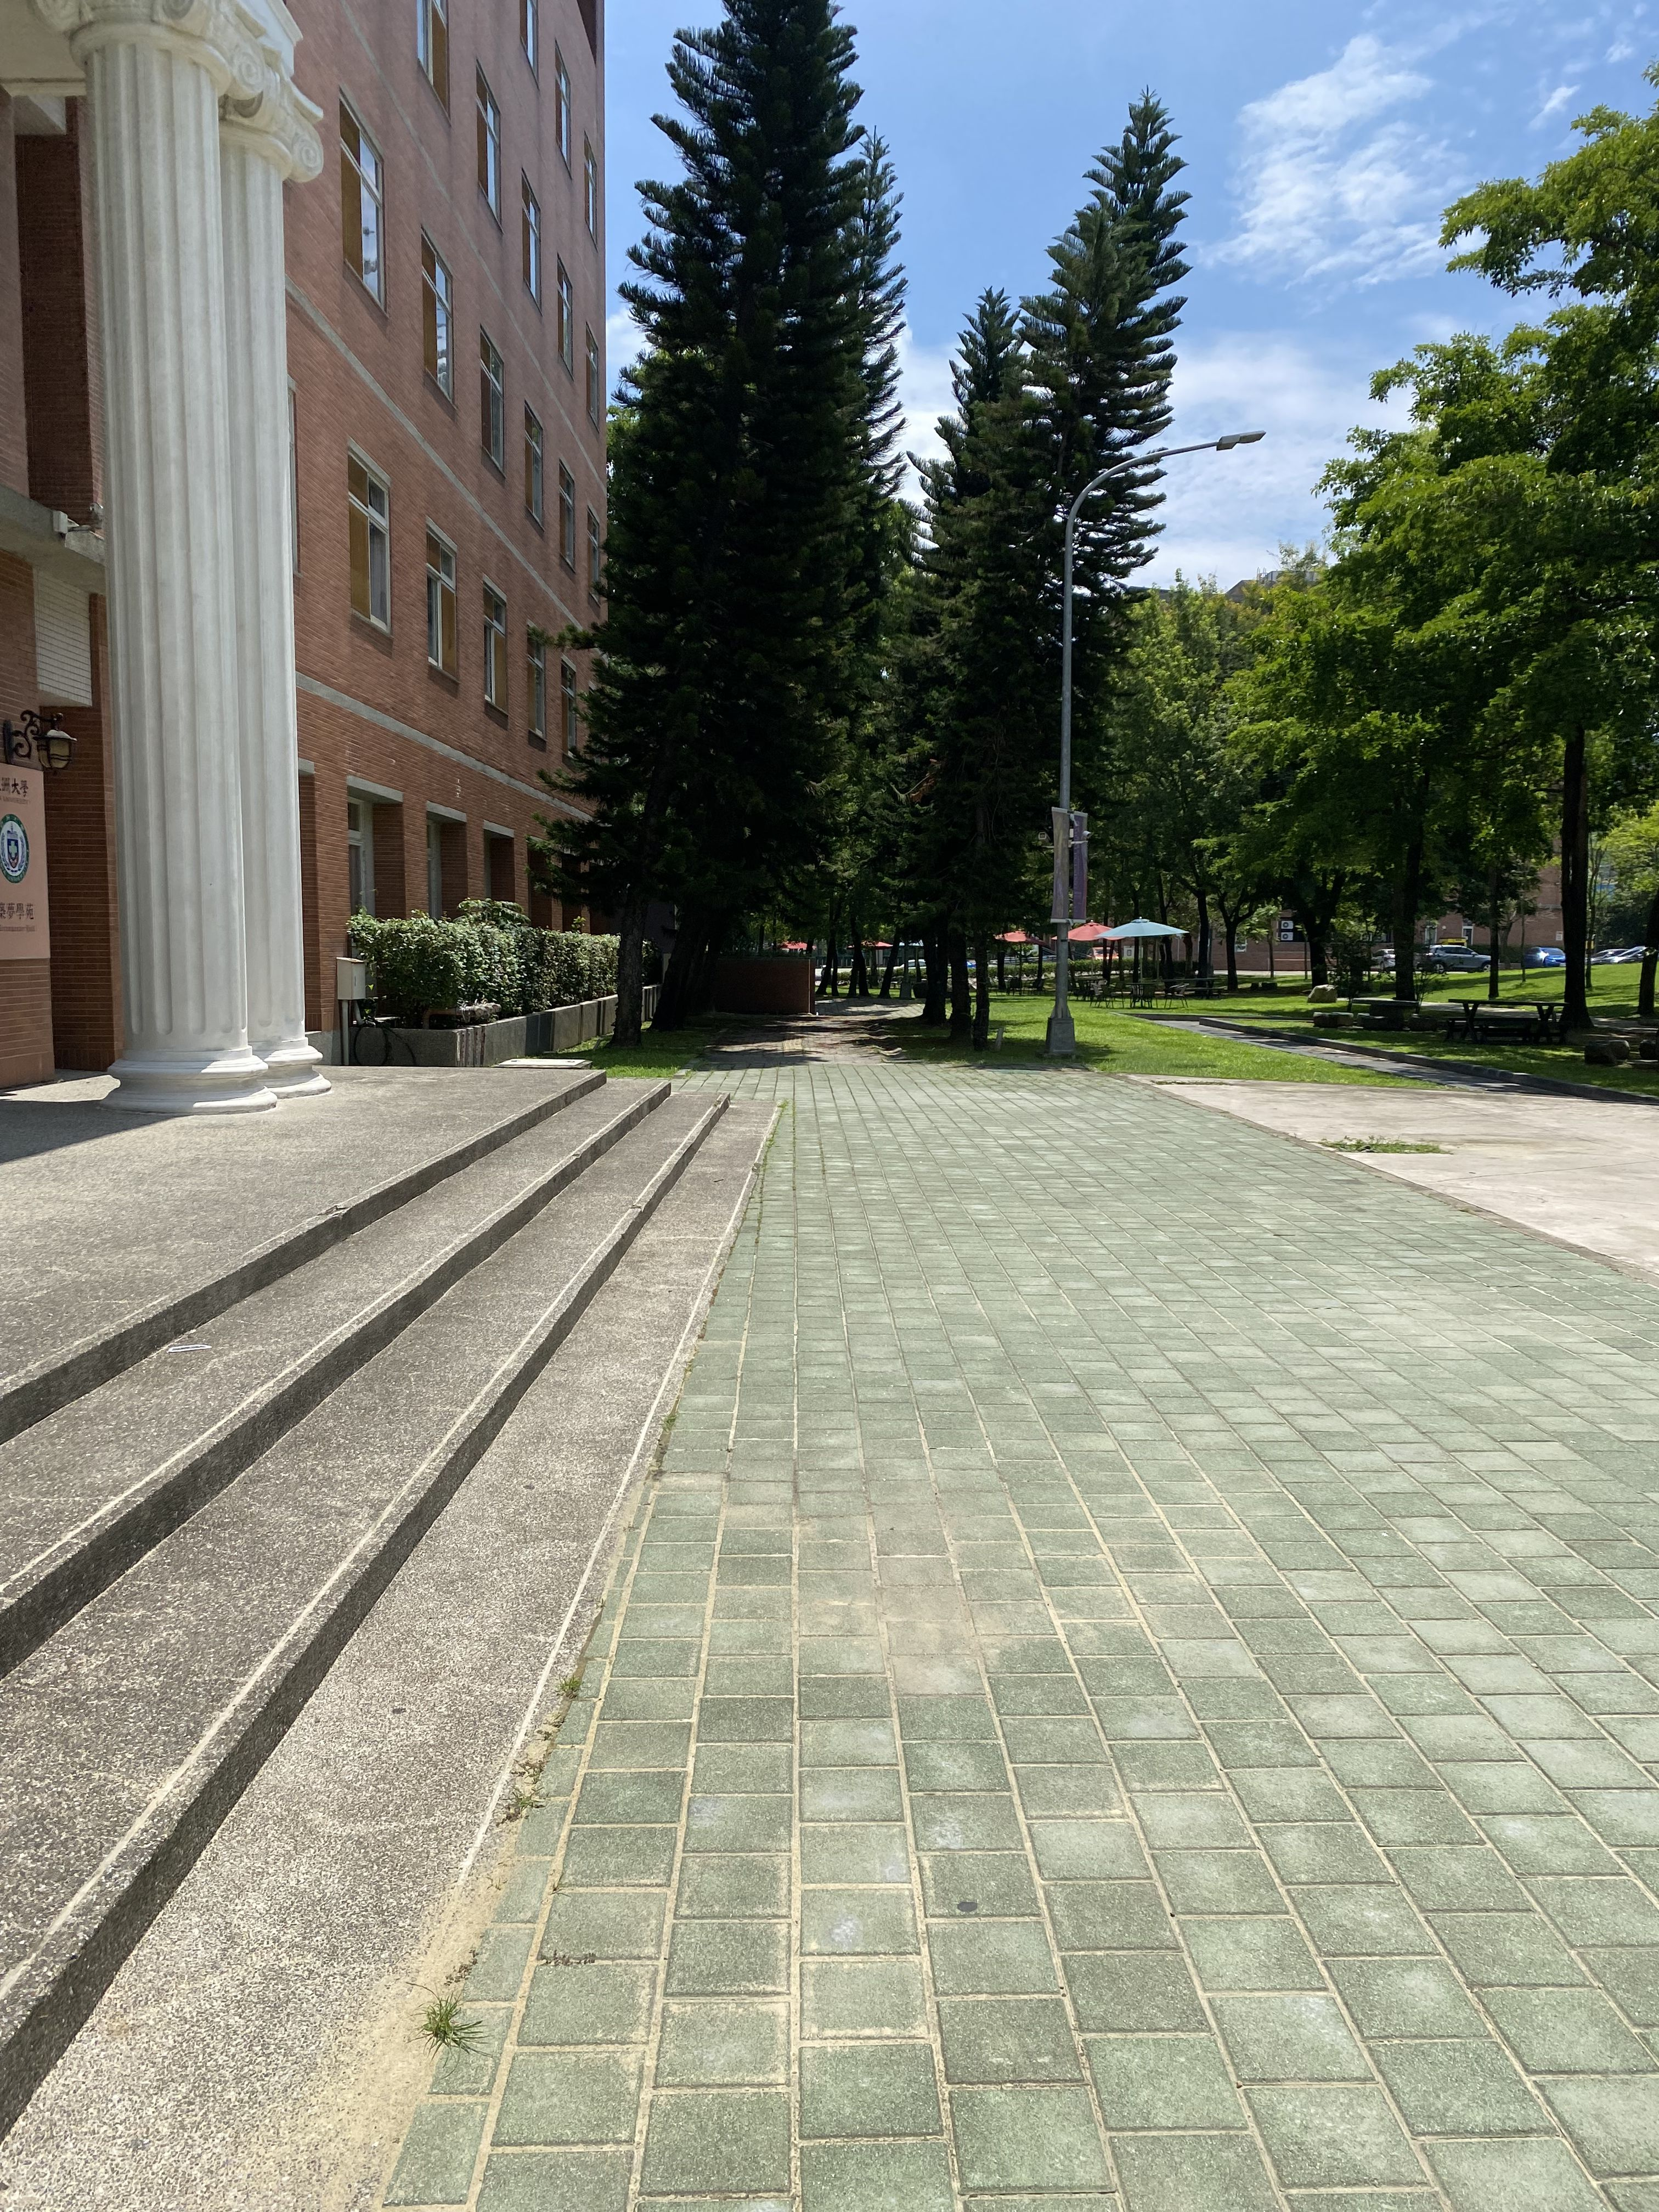sidewalk: (408, 970, 1659, 2212)
